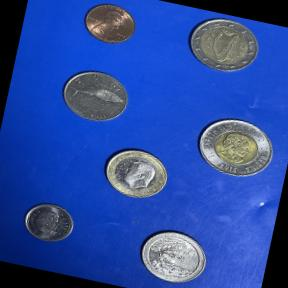coin: (188, 108, 283, 188), (177, 9, 267, 82), (54, 62, 136, 130), (94, 140, 176, 208), (131, 222, 215, 288), (15, 196, 81, 250), (78, 0, 142, 52)
